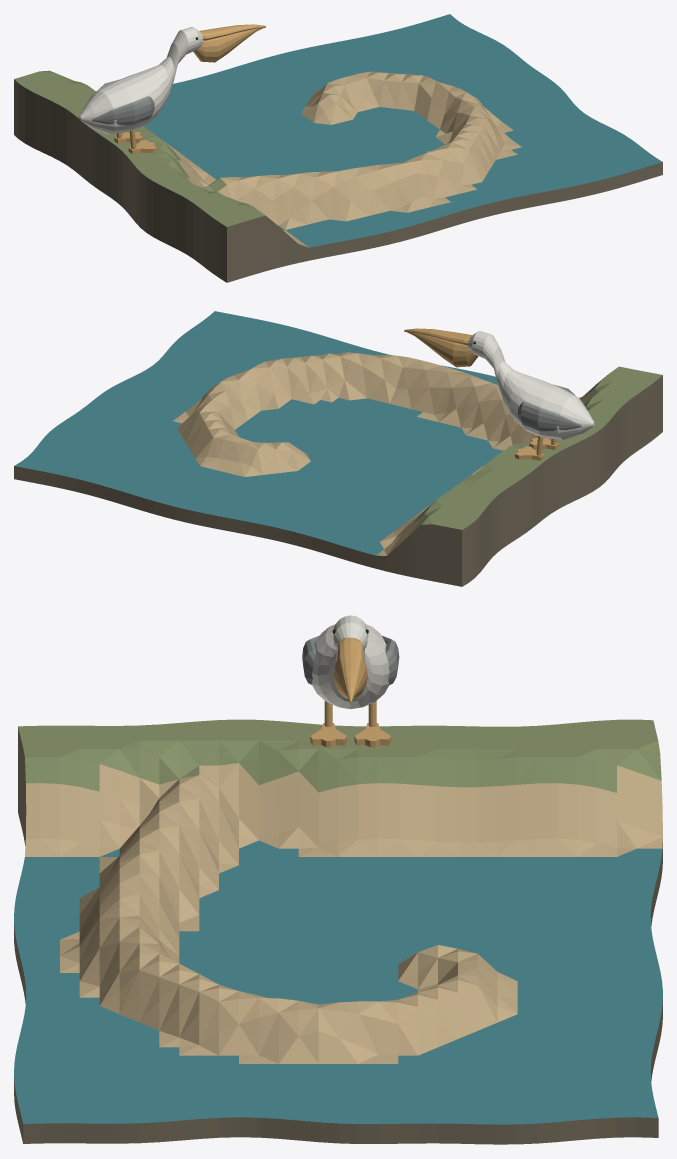
3 views of the same model, one above another, from view 1: azimuth 30°, elevation 25°; view 2: azimuth 150°, elevation 25°; view 3: azimuth 270°, elevation 25° (orthographic). The views are drawn at different scales.
Visible parts, largest first — view 1: c__WholeMainlandRecurvedSandSpitAndOpenSeaBay, p__WholeDeepBodyCurvedNeckAndSmallHead, p__WholeLongFoldedWing0, p__WholeDeepSaggingLowerThroatPouch, p__WholeVeryLongTaperedUpperBill; view 2: c__WholeMainlandRecurvedSandSpitAndOpenSeaBay, p__WholeDeepBodyCurvedNeckAndSmallHead, p__WholeLongFoldedWing1, p__WholeDeepSaggingLowerThroatPouch, p__WholeVeryLongTaperedUpperBill; view 3: c__WholeMainlandRecurvedSandSpitAndOpenSeaBay, p__WholeDeepBodyCurvedNeckAndSmallHead, p__WholeVeryLongTaperedUpperBill.
Boxes of the visible parts, x1,y1,x2,y2 form: c__WholeMainlandRecurvedSandSpitAndOpenSeaBay: (14, 14, 662, 282); p__WholeDeepBodyCurvedNeckAndSmallHead: (79, 27, 203, 133); p__WholeLongFoldedWing0: (92, 96, 154, 125); p__WholeDeepSaggingLowerThroatPouch: (193, 28, 263, 62); p__WholeVeryLongTaperedUpperBill: (199, 24, 265, 40); c__WholeMainlandRecurvedSandSpitAndOpenSeaBay: (14, 311, 662, 586); p__WholeDeepBodyCurvedNeckAndSmallHead: (467, 331, 594, 440); p__WholeLongFoldedWing1: (517, 401, 581, 431); p__WholeDeepSaggingLowerThroatPouch: (407, 332, 478, 367); p__WholeVeryLongTaperedUpperBill: (404, 328, 471, 345); c__WholeMainlandRecurvedSandSpitAndOpenSeaBay: (14, 719, 662, 1144); p__WholeDeepBodyCurvedNeckAndSmallHead: (311, 615, 389, 709); p__WholeVeryLongTaperedUpperBill: (338, 637, 363, 704).
Size of the model in its own units: 6.99 by 2.22 by 5.3.
